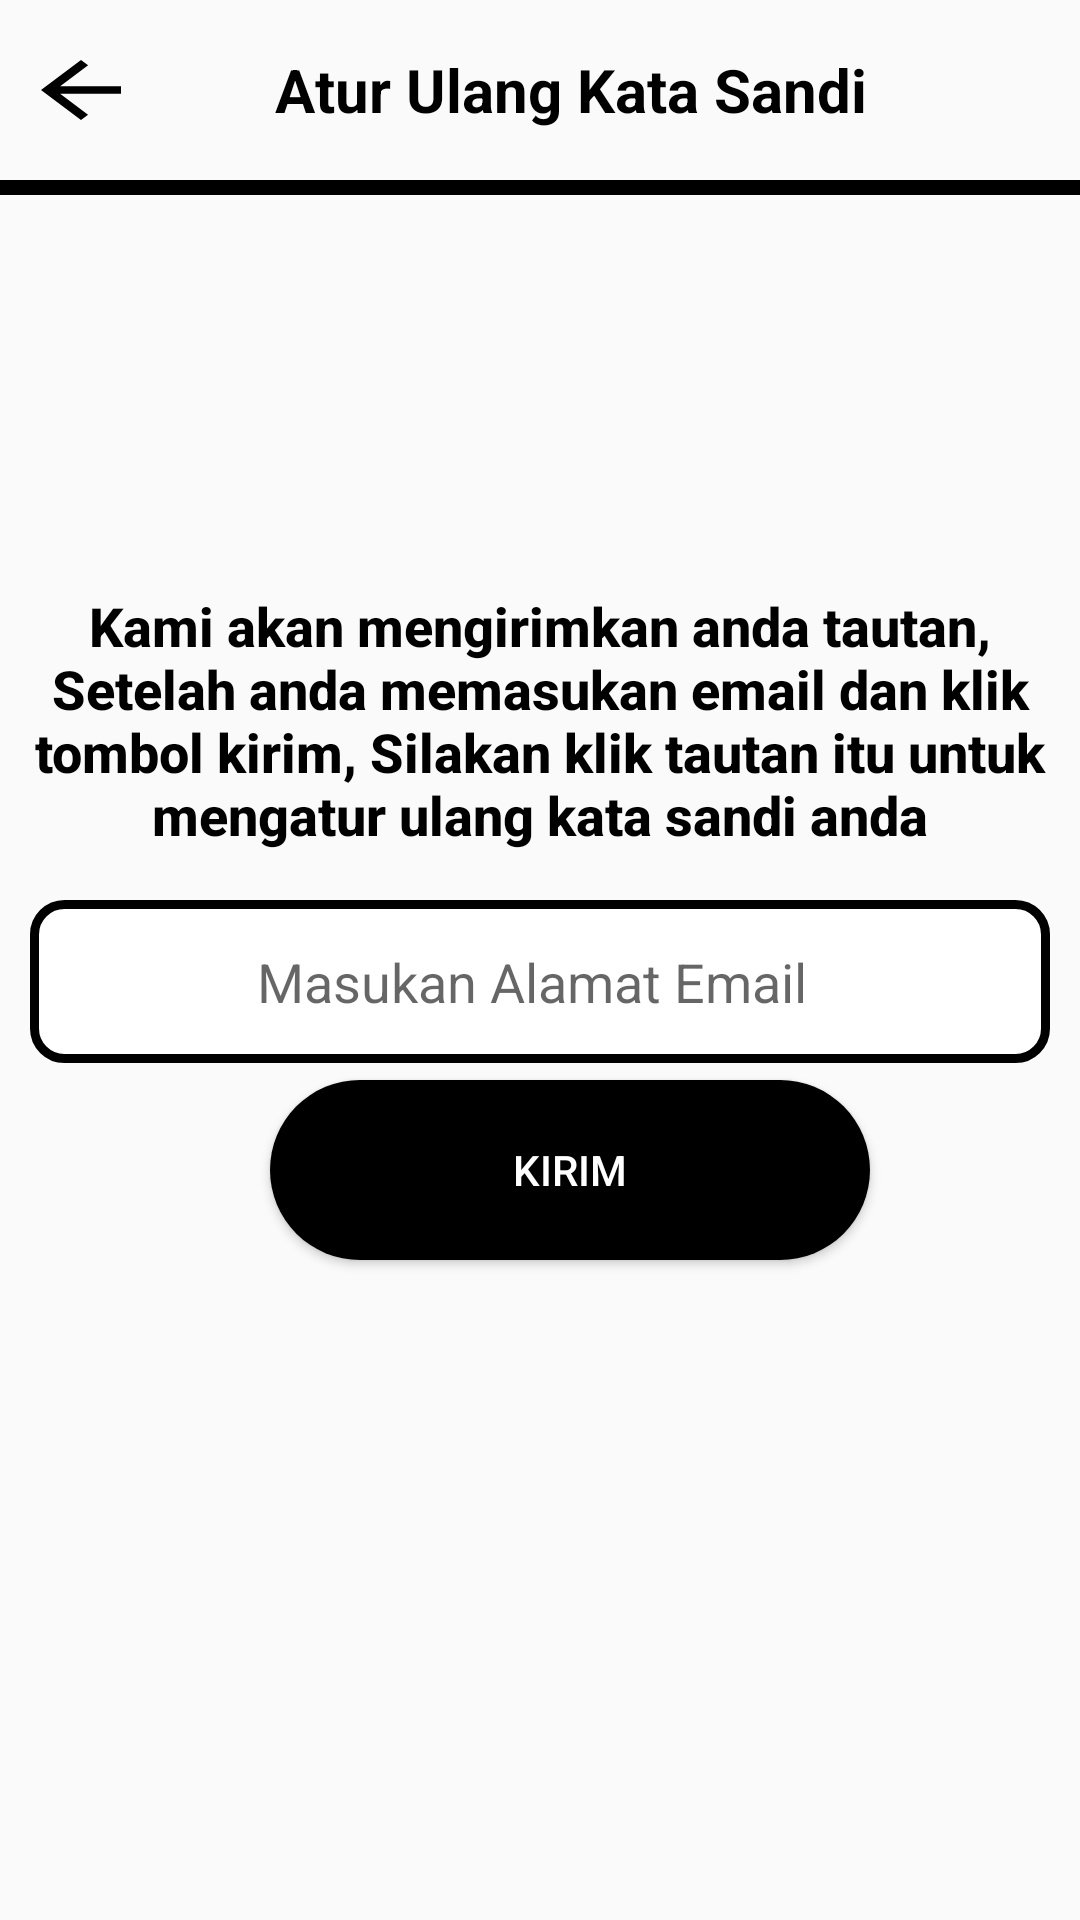

Point at icon controls on the screen. Image size 1080 × 1920, points as point (x, y).
back: point (81, 90)
